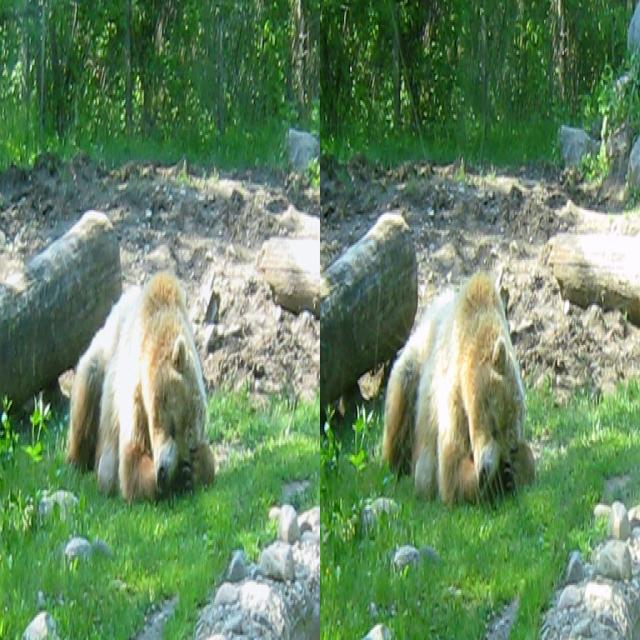Buffalo: (378, 266, 534, 497), (63, 266, 206, 500)
